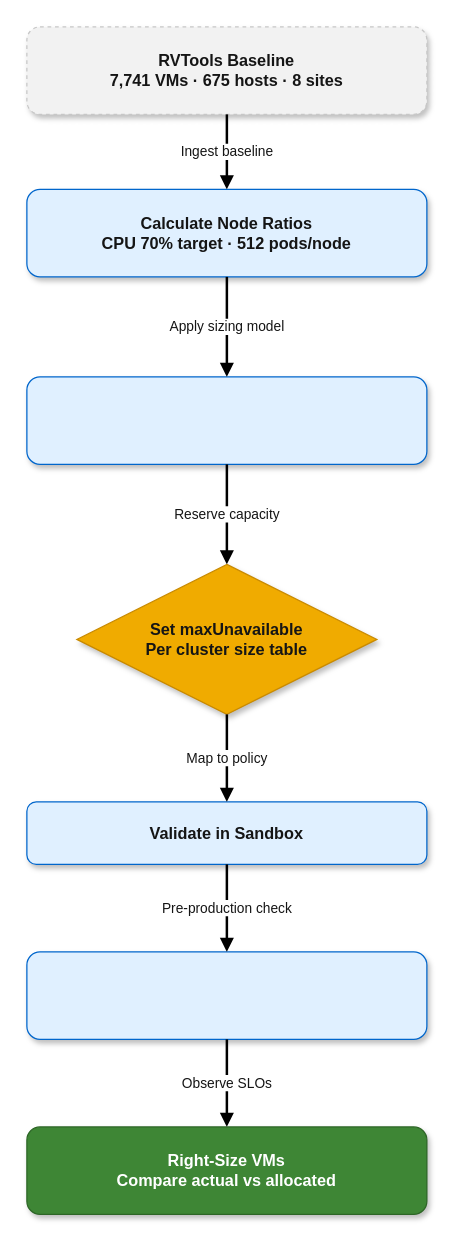
Image size: 456x1245. Some labels were removed from this diagram. Each missing label, with the centre of its shape:
Define Headroom 1 spare min · 2 to 3 preferred: [227,422]
Monitor Post-Migration Prometheus / Grafana dashboards: [227,997]
